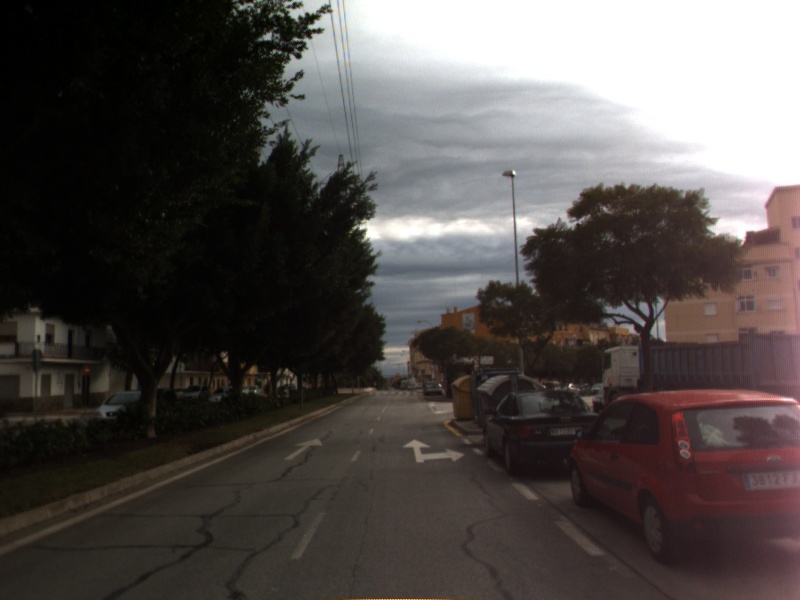STRAIGHT: (282, 436, 325, 462)
STRAIGHT_RIGHT: (401, 437, 467, 464)
